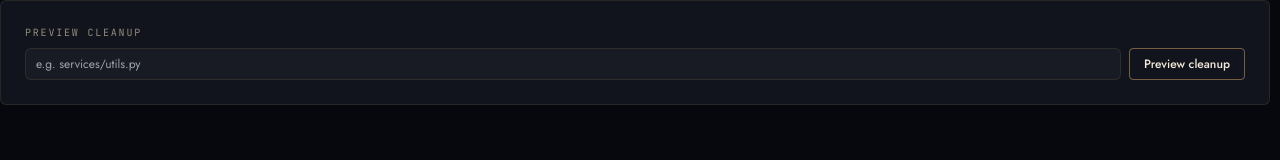
Ticket F-UI · SimplifyFilePanel › a generic preview error shows an honest message, never a silent failure
Type "a.py" into the field with test id "simplify-file-path-input". click: point(573, 64)
box: top-left (25, 48), bottom-right (1121, 80)
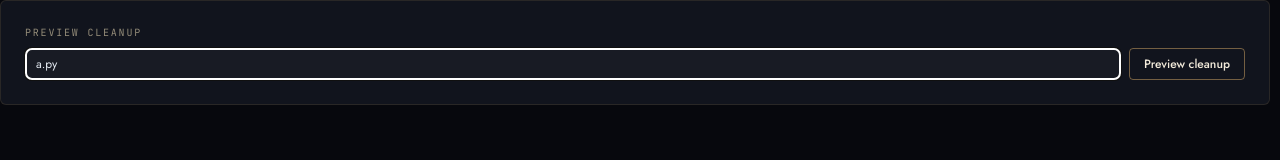
Click the button with test id "simplify-file-preview-btn". click: point(1187, 64)
box: top-left (1129, 48), bottom-right (1245, 80)
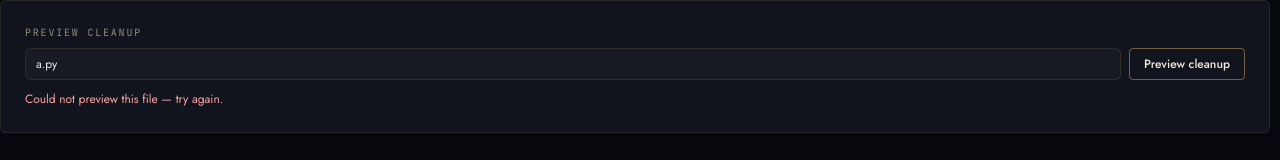
expect the message "Could not preview this file — try again." is shown: met, box top-left (25, 90), bottom-right (223, 108)
